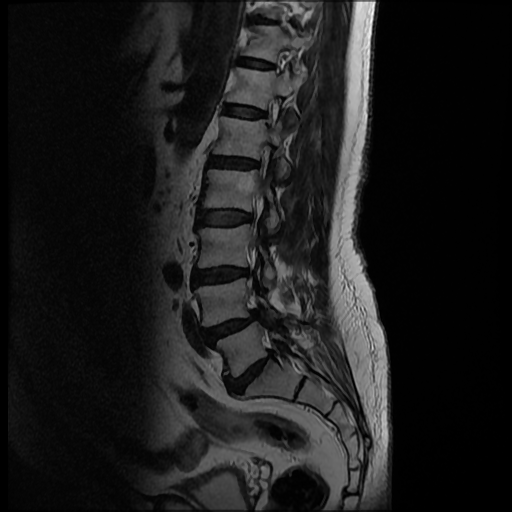LFS0: (248, 133, 278, 180)
